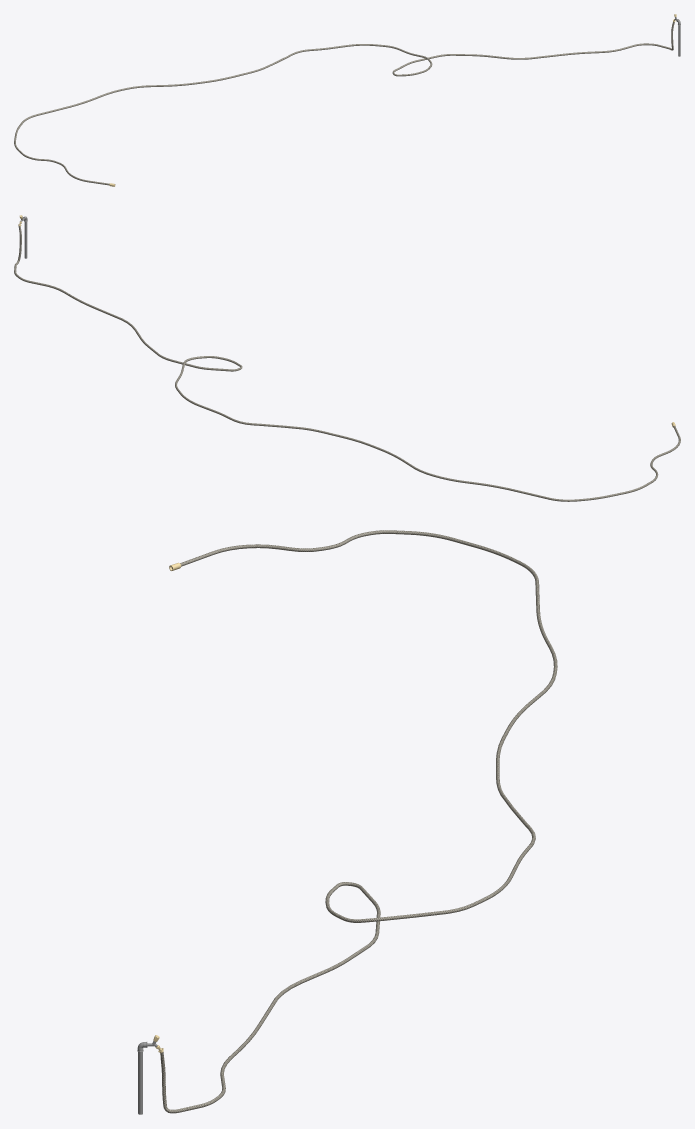
File: Prop_Tap.fbx
3 views of the same model, one above another, from view 1: azimuth 30°, elevation 25°; view 2: azimuth 150°, elevation 25°; view 3: azimuth 270°, elevation 25° (orthographic). The views are drawn at different scales.
Parts seen in each view (by area): view 1: Prop_Tap; view 2: Prop_Tap; view 3: Prop_Tap.
Part boxes in pixels (x1,y1,x2,y2): Prop_Tap: (14, 14, 680, 186); Prop_Tap: (14, 215, 680, 501); Prop_Tap: (137, 530, 557, 1114).
Bounding box in the file's own units: 696 × 44.07 × 212.
